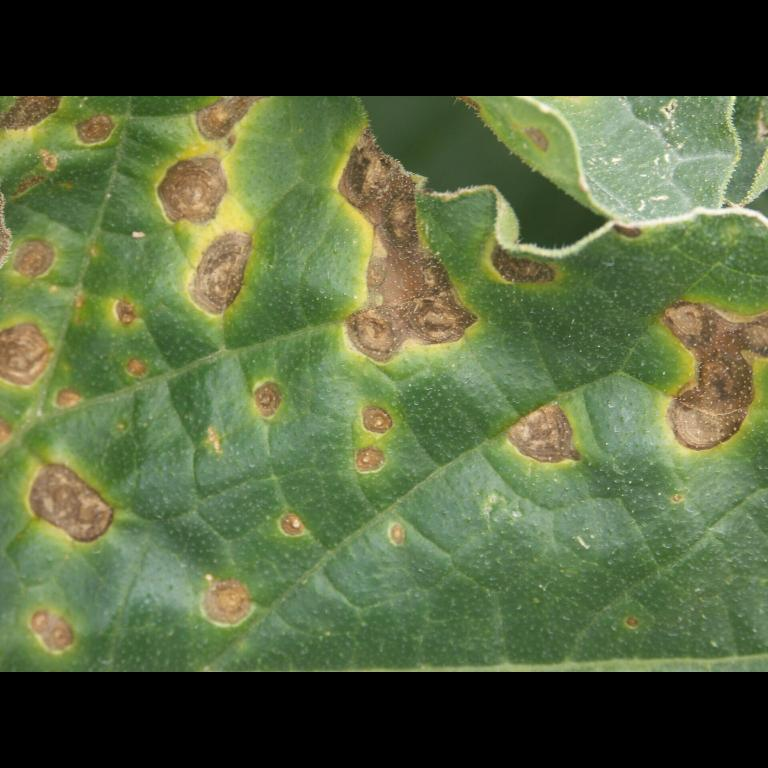blight: (292, 140, 492, 388)
